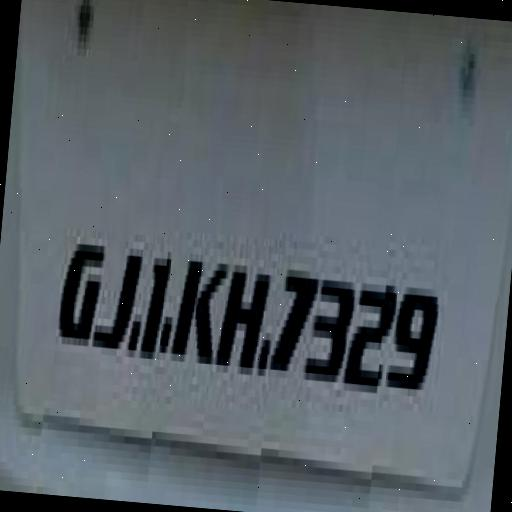number plate: (0, 29, 506, 510)
